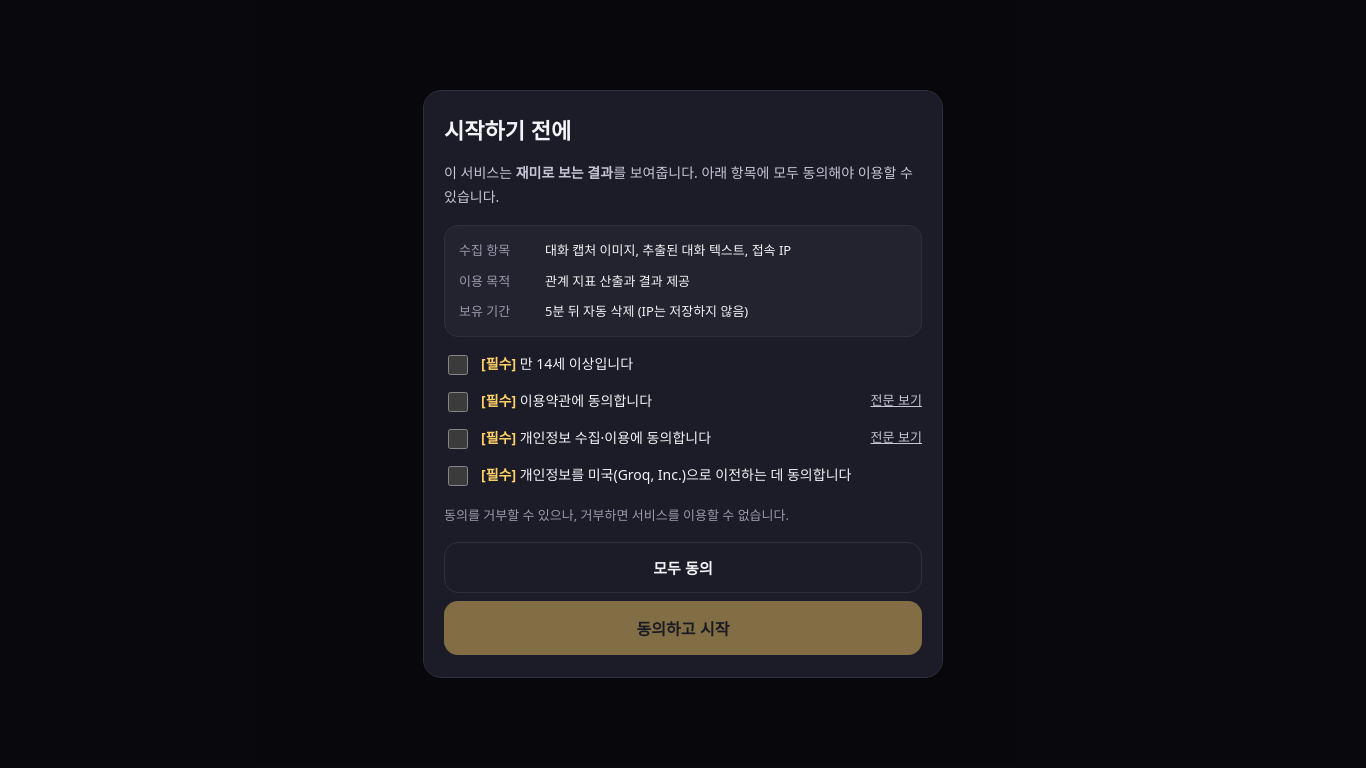
Test case: 최초 입장 동의 › 모두 동의 버튼은 편의일 뿐 개별 체크박스를 없애지 않는다
This screenshot has width=1366, height=768.
Click the button "모두 동의".
click(683, 567)  # box [444,542,922,593]
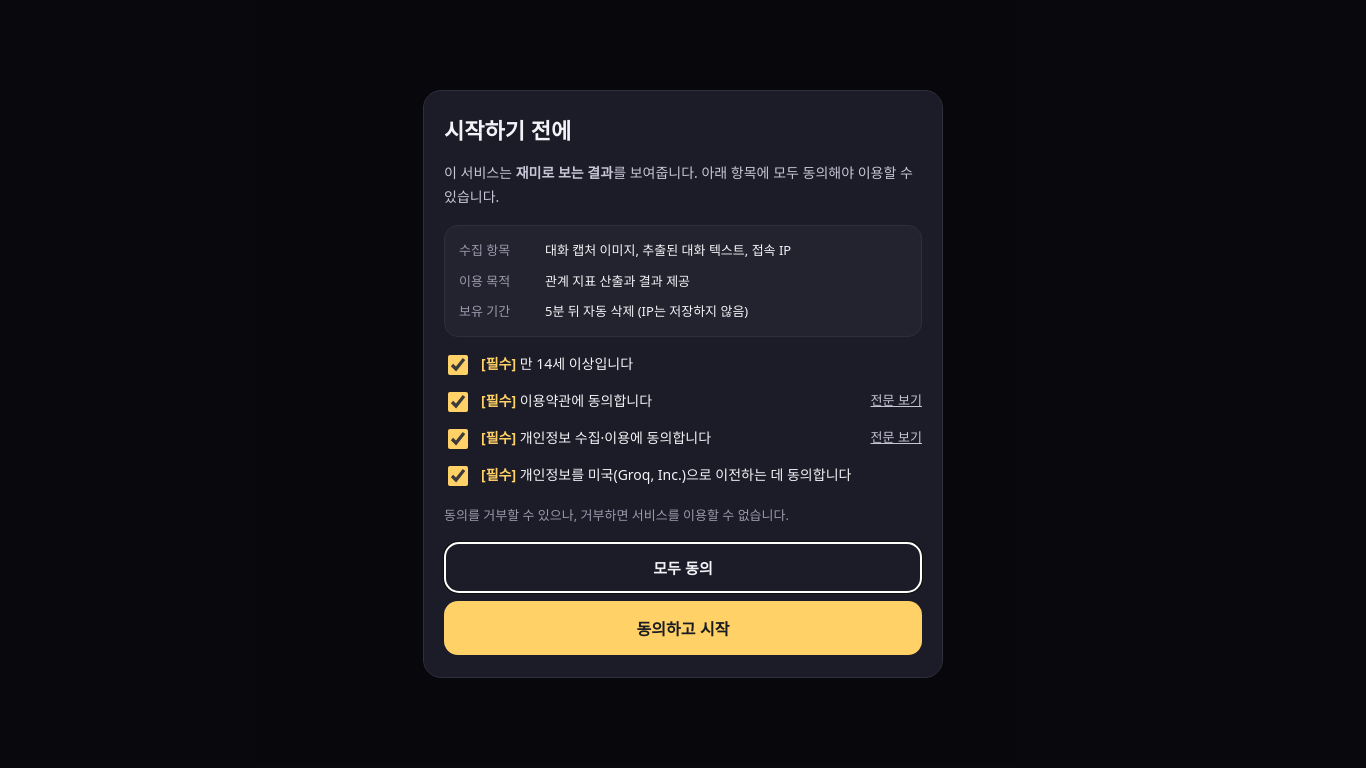
Now the checkbox labelled "[필수] 만 14세 이상입니다" is checked, box [448,355,468,375]
Now the checkbox labelled "[필수] 이용약관에 동의합니다" is checked, box [448,392,468,412]
Now the checkbox labelled "[필수] 개인정보 수집·이용에 동의합니다" is checked, box [448,429,468,449]
